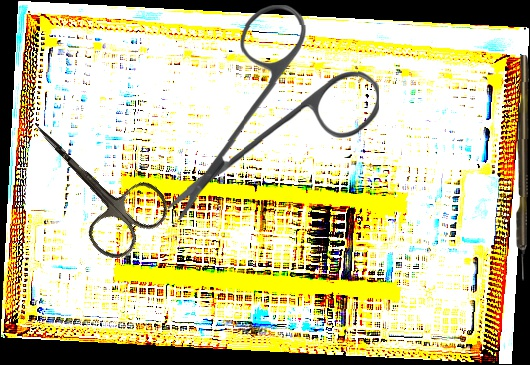Hook Surgical: (515, 54, 530, 282)
Iris Scissors: (164, 3, 381, 220), (4, 92, 177, 269)
